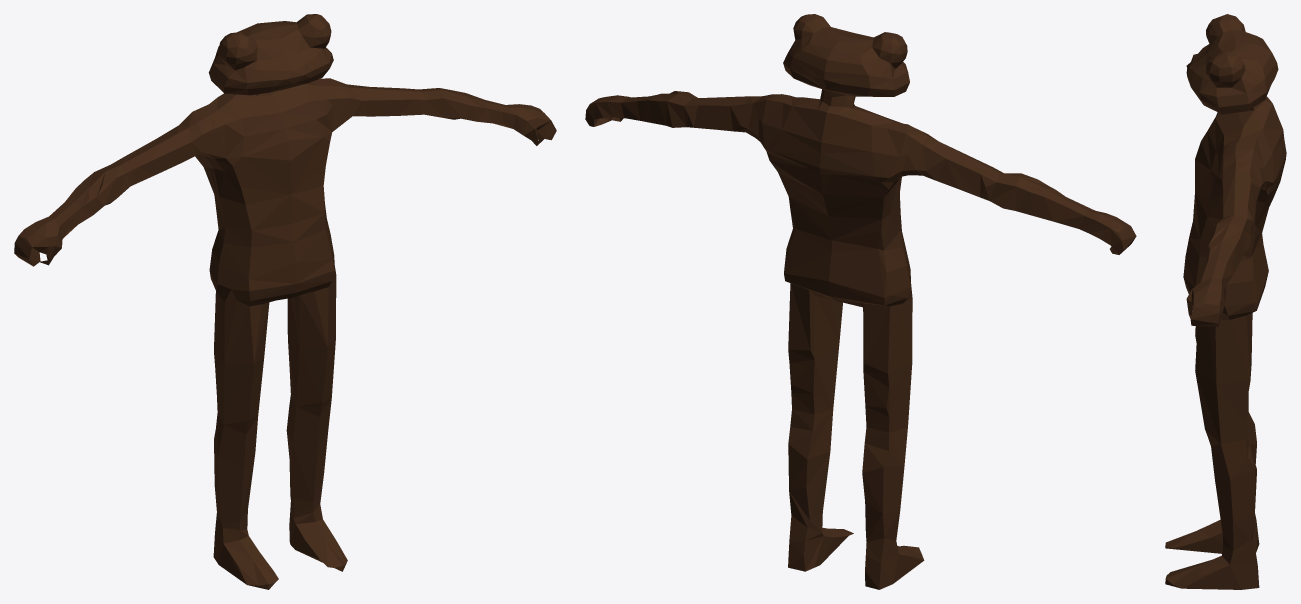
The model's file is fixed.fbx.
3 views of the same model, side by side, from view 1: azimuth 30°, elevation 25°; view 2: azimuth 150°, elevation 25°; view 3: azimuth 270°, elevation 25° (orthographic).
Parts seen in each view (by area): view 1: Cube.001; view 2: Cube.001; view 3: Cube.001.
Boxes of the visible parts, box(x1,y1,x2,y2) form: Cube.001: box(14, 14, 556, 589); Cube.001: box(585, 14, 1136, 589); Cube.001: box(1165, 14, 1286, 589).
Bounding box in the file's own units: 198 × 191 × 39.42.
